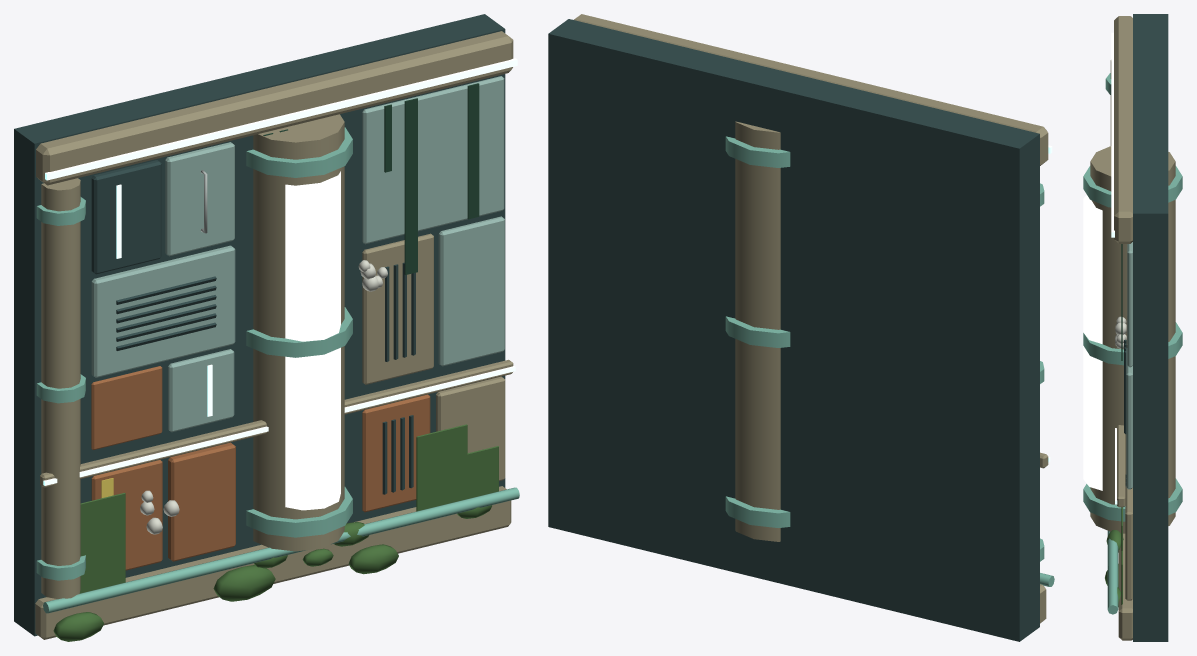
Rendered from wall_dr_light.glb.
3 renders of one model, left to right at view 1: azimuth 30°, elevation 25°; view 2: azimuth 150°, elevation 25°; view 3: azimuth 270°, elevation 25°, orthographic. The views are drawn at different scales.
Visible parts, largest first — view 1: wall_dr_light; view 2: wall_dr_light; view 3: wall_dr_light.
Part boxes in pixels (<box>): wall_dr_light: <box>14,14,519,641</box>; wall_dr_light: <box>548,14,1054,641</box>; wall_dr_light: <box>1083,14,1182,641</box>.
Size of the model in its own units: 4 by 4.07 by 0.84.
